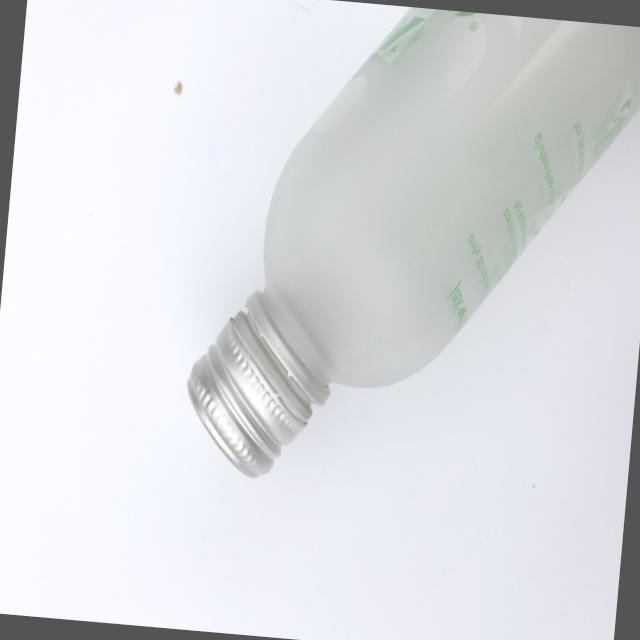Glass: (171, 0, 640, 519)
